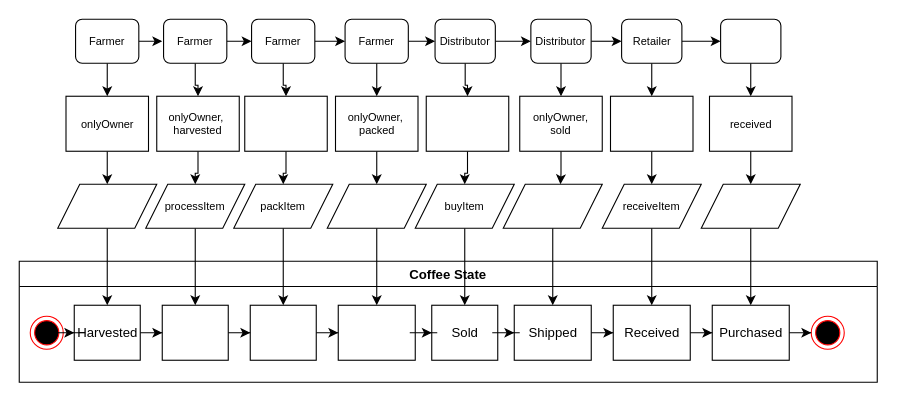
The diagram is 897 pixels wide and 402 high, and some of its shapes have lost their labels. The shapes that lost their labels are listed below. From the top down, each one's centre as x and y in pixels, then its label:
the point at 750,40: Consumer
the point at 285,123: onlyOwner, processed
the point at 467,123: forSale, paidEnough
the point at 651,123: onlyOwner, shipped
the point at 107,205: harvestItem
the point at 376,205: sellItem
the point at 552,205: shipItem
the point at 750,205: purchaseItem
the point at 194,332: Processed
the point at 282,332: Packed
the point at 376,332: ForSale
